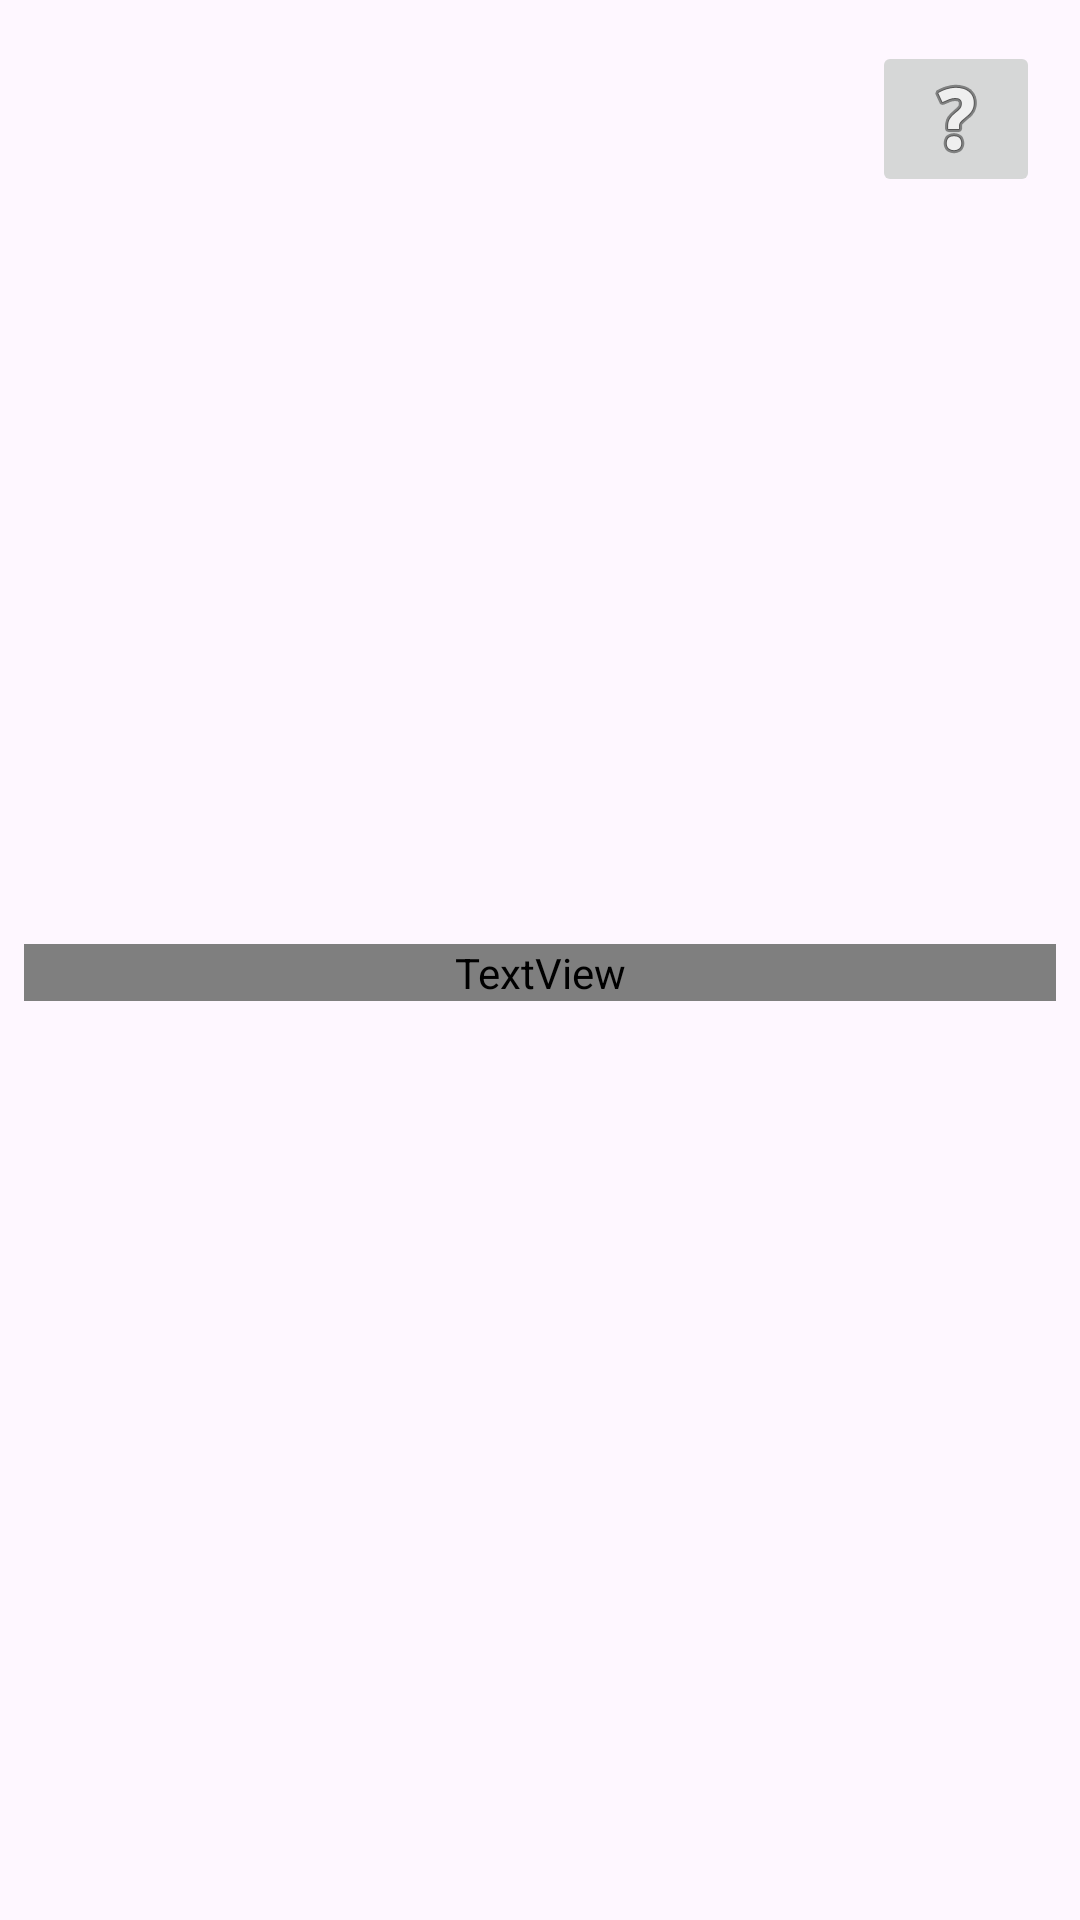

Icon click points for this 1080w x 1920h phone screenshot, format point (x, y):
help: point (956, 119)
